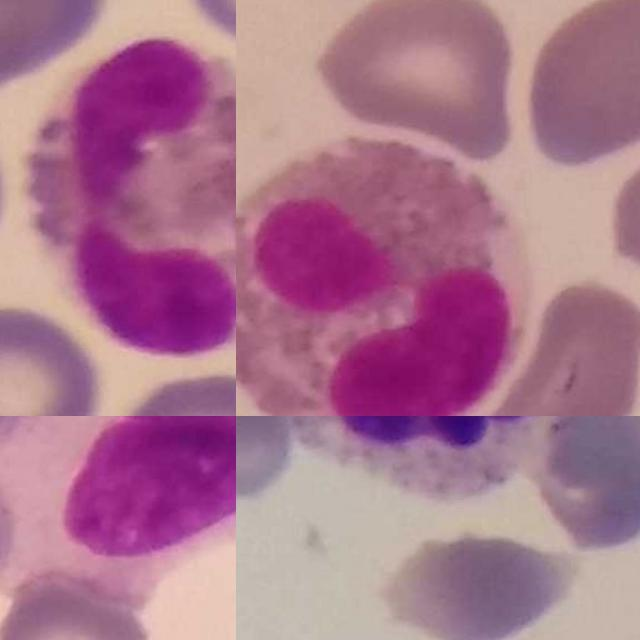Eosinophil: (236, 139, 530, 416), (35, 40, 236, 362)
Monocyte: (0, 416, 236, 608)
Neutrophil: (266, 416, 581, 495)
